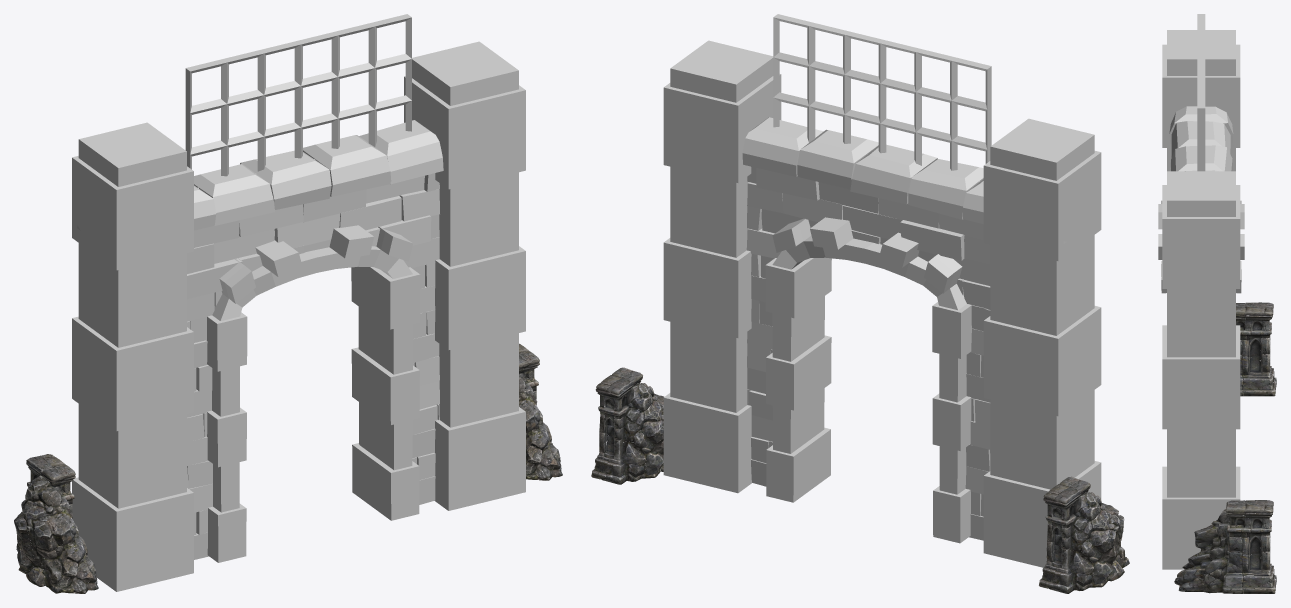
File: Valoria_MainGate_v2.glb
3 views of the same model, side by side, from view 1: azimuth 30°, elevation 25°; view 2: azimuth 150°, elevation 25°; view 3: azimuth 270°, elevation 25° (orthographic). The views are drawn at different scales.
Parts seen in each view (by area): view 1: GateV2 · 001 · Stone_Doorway, GateV2 · 003 · Stone_Gate_Pillar_Right, GateV2 · 002 · Stone_Gate_Pillar_Left, GateV2 · 000 · Gate, GateV2 · 004 · V2 Gate Rich Left · Eldoria_MultiPiece_Group_, GateV2 · 005 · V2 Gate Rich Right · V2 Gate Rich Left · Eld; view 2: GateV2 · 001 · Stone_Doorway, GateV2 · 003 · Stone_Gate_Pillar_Right, GateV2 · 002 · Stone_Gate_Pillar_Left, GateV2 · 000 · Gate, GateV2 · 004 · V2 Gate Rich Left · Eldoria_MultiPiece_Group_, GateV2 · 005 · V2 Gate Rich Right · V2 Gate Rich Left · Eld; view 3: GateV2 · 002 · Stone_Gate_Pillar_Left, GateV2 · 005 · V2 Gate Rich Right · V2 Gate Rich Left · Eld, GateV2 · 003 · Stone_Gate_Pillar_Right, GateV2 · 001 · Stone_Doorway, GateV2 · 004 · V2 Gate Rich Left · Eldoria_MultiPiece_Group_, GateV2 · 000 · Gate.
Part boxes in pixels (left/top/right/bottom): GateV2 · 001 · Stone_Doorway: left=77, top=120, right=443, bottom=562; GateV2 · 003 · Stone_Gate_Pillar_Right: left=72, top=122, right=193, bottom=591; GateV2 · 002 · Stone_Gate_Pillar_Left: left=404, top=41, right=525, bottom=510; GateV2 · 000 · Gate: left=185, top=14, right=411, bottom=188; GateV2 · 004 · V2 Gate Rich Left · Eldoria_MultiPiece_Group_: left=14, top=454, right=98, bottom=593; GateV2 · 005 · V2 Gate Rich Right · V2 Gate Rich Left · Eld: left=519, top=343, right=562, bottom=480; GateV2 · 001 · Stone_Doorway: left=742, top=117, right=1066, bottom=543; GateV2 · 003 · Stone_Gate_Pillar_Right: left=983, top=118, right=1101, bottom=567; GateV2 · 002 · Stone_Gate_Pillar_Left: left=663, top=40, right=781, bottom=493; GateV2 · 000 · Gate: left=773, top=14, right=991, bottom=181; GateV2 · 004 · V2 Gate Rich Left · Eldoria_MultiPiece_Group_: left=1039, top=476, right=1129, bottom=593; GateV2 · 005 · V2 Gate Rich Right · V2 Gate Rich Left · Eld: left=591, top=367, right=663, bottom=484; GateV2 · 002 · Stone_Gate_Pillar_Left: left=1162, top=171, right=1240, bottom=569; GateV2 · 005 · V2 Gate Rich Right · V2 Gate Rich Left · Eld: left=1174, top=500, right=1276, bottom=593; GateV2 · 003 · Stone_Gate_Pillar_Right: left=1162, top=30, right=1240, bottom=326; GateV2 · 001 · Stone_Doorway: left=1158, top=106, right=1244, bottom=293; GateV2 · 004 · V2 Gate Rich Left · Eldoria_MultiPiece_Group_: left=1236, top=302, right=1276, bottom=396; GateV2 · 000 · Gate: left=1197, top=14, right=1205, bottom=171.
Size of the model in its own units: 3.93 by 3.5 by 0.8869.
2 materials, 1 textured.
